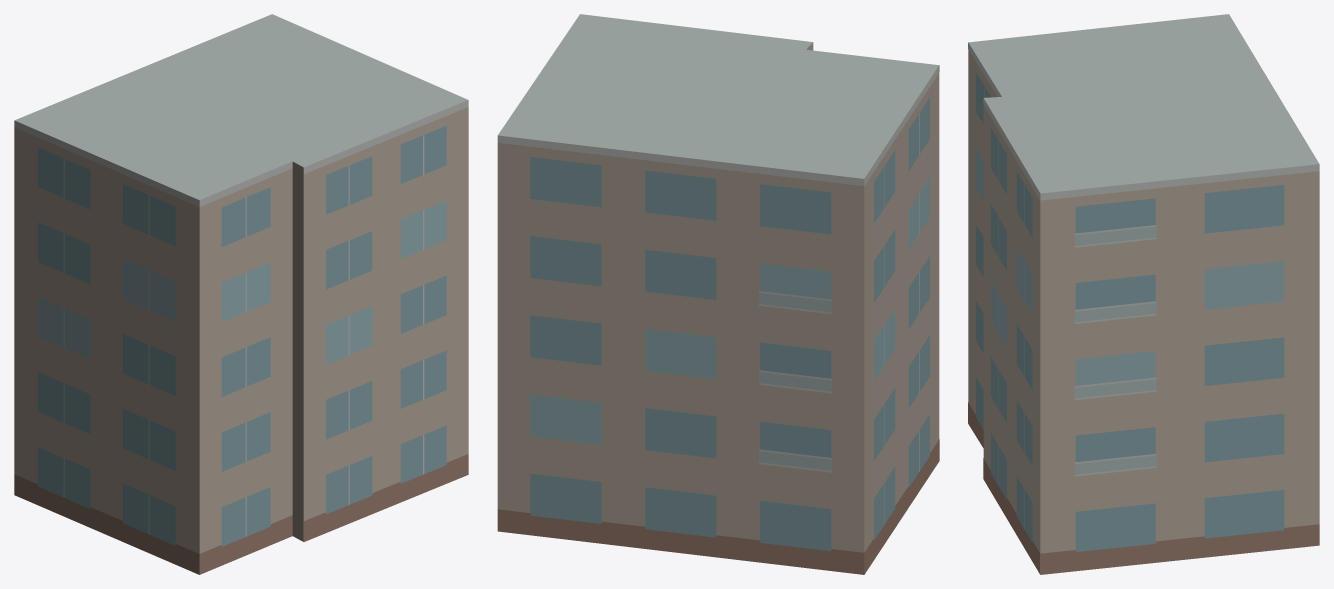
The model's file is survey-upis-33016644.glb.
3 views of the same model, side by side, from view 1: azimuth 30°, elevation 25°; view 2: azimuth 150°, elevation 25°; view 3: azimuth 270°, elevation 25° (orthographic). The views are drawn at different scales.
Parts seen in each view (by area): view 1: survey-upis-33016644.tmp; view 2: survey-upis-33016644.tmp; view 3: survey-upis-33016644.tmp.
Part boxes in pixels (<box>): survey-upis-33016644.tmp: <box>14,14,468,574</box>; survey-upis-33016644.tmp: <box>497,14,939,574</box>; survey-upis-33016644.tmp: <box>968,14,1319,574</box>.
Size of the model in its own units: 13.44 by 13.3 by 11.12.
